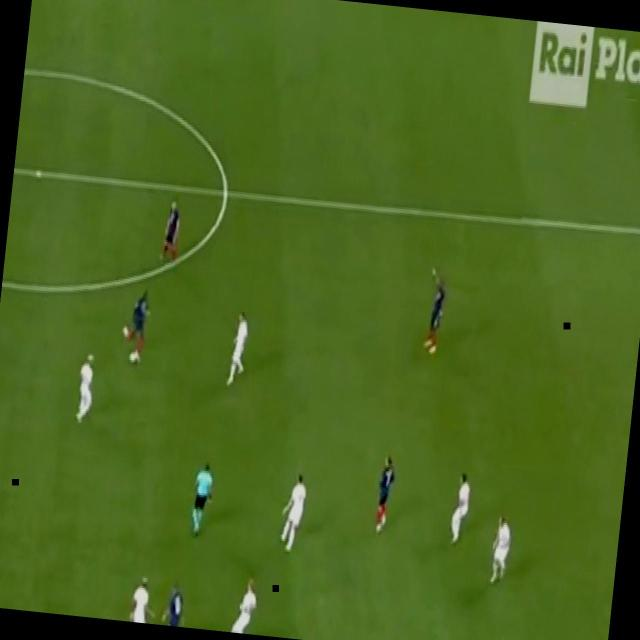ball: (127, 348, 138, 364)
player-white: (419, 260, 450, 358), (118, 283, 154, 366), (276, 470, 310, 555), (186, 456, 218, 540), (223, 307, 252, 389), (446, 469, 474, 549), (486, 511, 515, 588), (372, 453, 398, 537), (227, 573, 261, 635), (72, 349, 99, 427), (157, 198, 186, 268), (126, 572, 160, 624), (158, 578, 188, 628)
